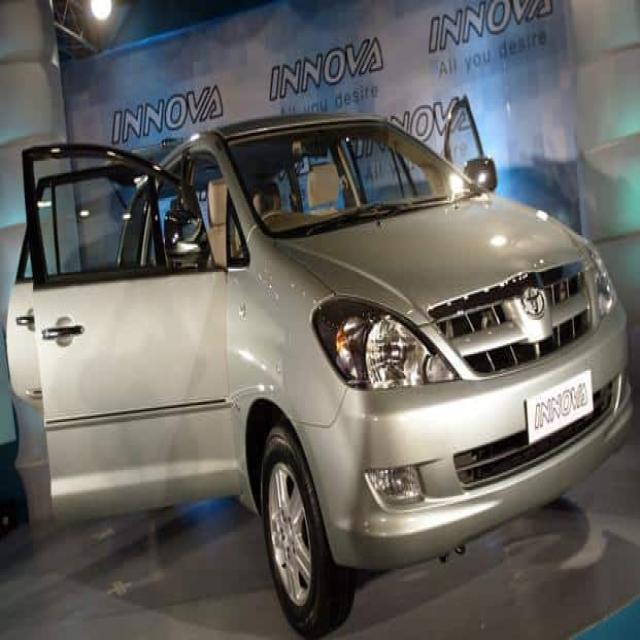light_vehicle: (0, 111, 635, 631)
